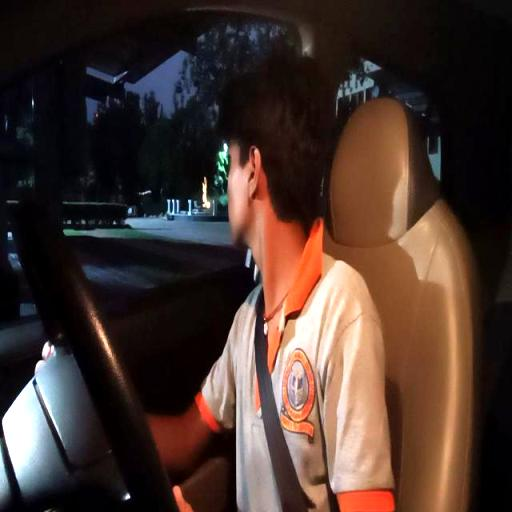Reaching_behind: (198, 58, 399, 504)
